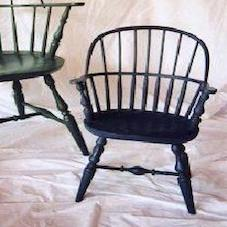chair: (52, 15, 218, 207)
